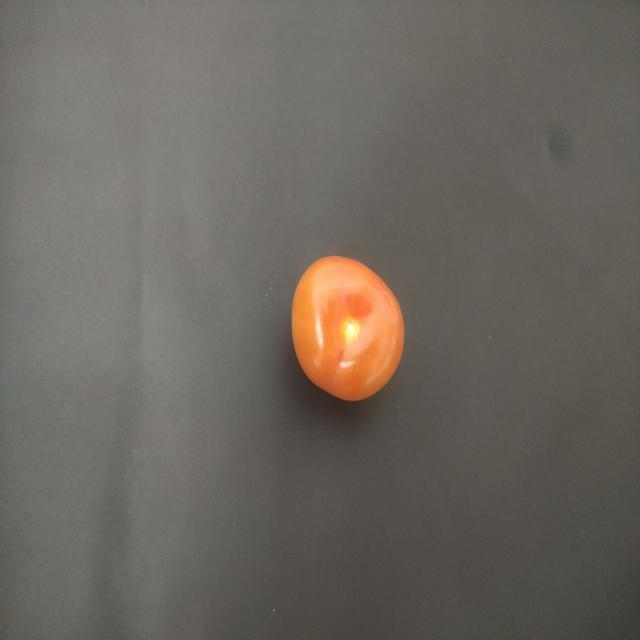sari: (285, 250, 413, 414)
